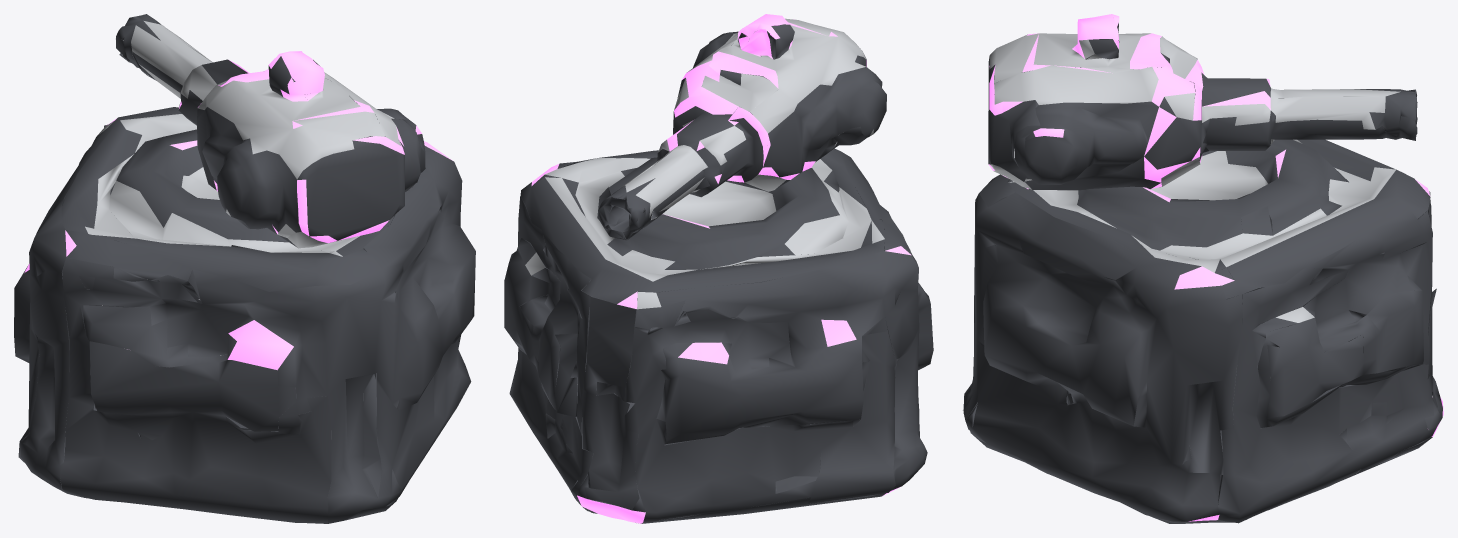
File: SM_Turret_v1_slots.fbx
3 renders of one model, left to right at view 1: azimuth 30°, elevation 25°; view 2: azimuth 150°, elevation 25°; view 3: azimuth 270°, elevation 25°, orthographic. The views are drawn at different scales.
Visible parts, largest first — view 1: SM_Turret, Head; view 2: SM_Turret, Head; view 3: SM_Turret, Head.
Boxes of the visible parts, left/top/right/bottom form: SM_Turret: left=14, top=107, right=475, bottom=523; Head: left=116, top=14, right=425, bottom=248; SM_Turret: left=504, top=148, right=933, bottom=523; Head: left=598, top=14, right=886, bottom=240; SM_Turret: left=963, top=139, right=1443, bottom=523; Head: left=988, top=14, right=1417, bottom=190.
Size of the model in its own units: 0.9388 by 0.9153 by 0.9432.
